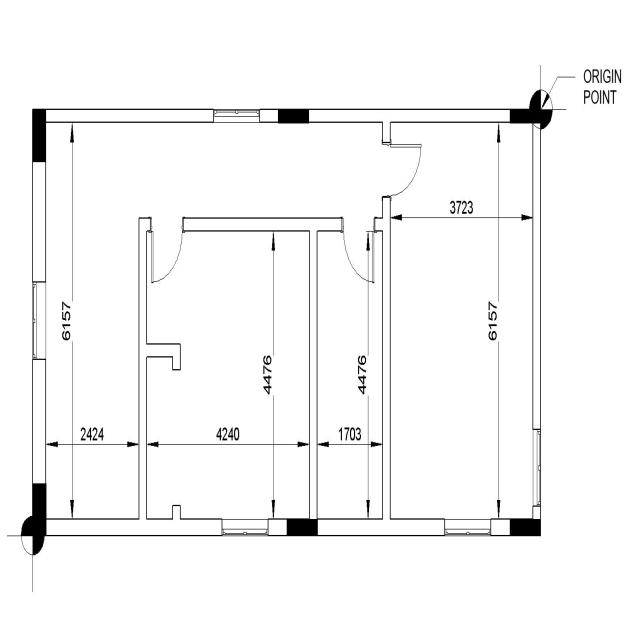Column: (31, 483, 47, 536), (32, 108, 47, 164), (508, 106, 542, 125), (287, 516, 318, 536), (510, 517, 542, 536), (279, 108, 309, 124)
Door: (336, 225, 378, 286), (149, 222, 185, 292), (388, 142, 424, 203)
Window: (26, 272, 50, 368), (440, 504, 493, 545), (218, 512, 276, 536), (210, 109, 262, 130)
